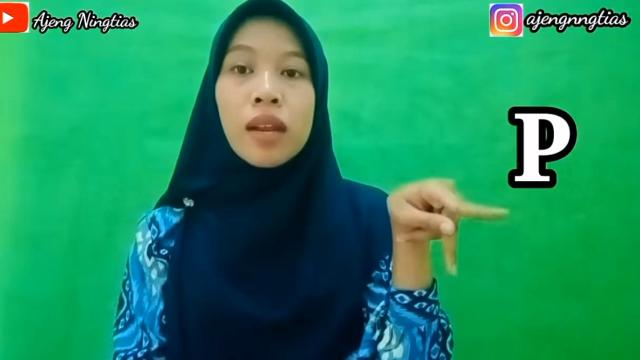P: (385, 174, 513, 278)
